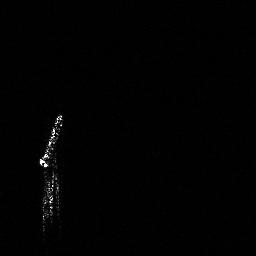ship: (39, 114, 66, 234)
